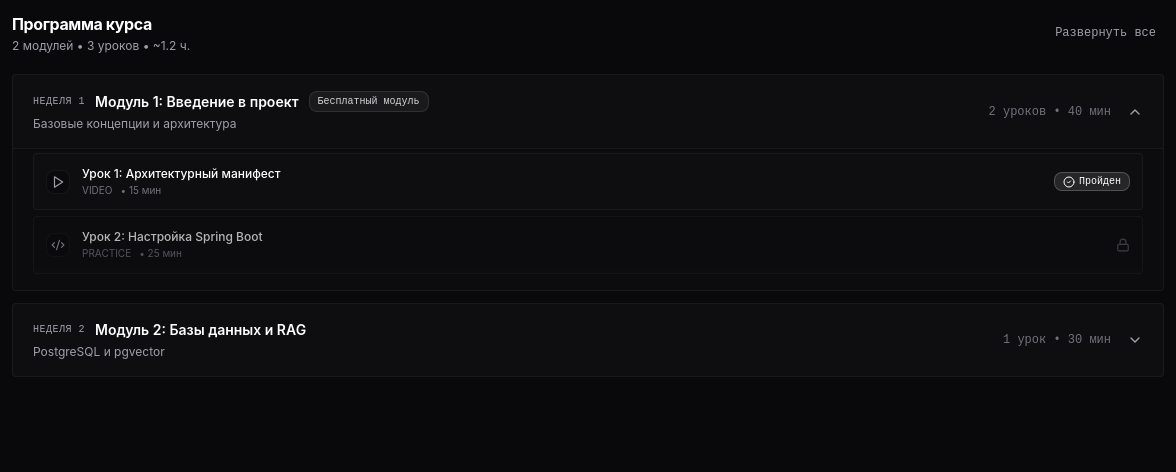
Test: CourseCurriculumAccordion Component › renders modules list, toggles accordion and displays lesson details
Check: the heading "Программа курса" is shown, box x1=12 y1=14 x2=152 y2=34
Check: the text "2 модулей • 3 уроков • ~1.2 ч." is shown, box x1=12 y1=38 x2=190 y2=54
Module 2 is collapsed by default, expand it
Click the heading "Модуль 2: Базы данных и RAG": (201, 330) x1=95 y1=320 x2=306 y2=340
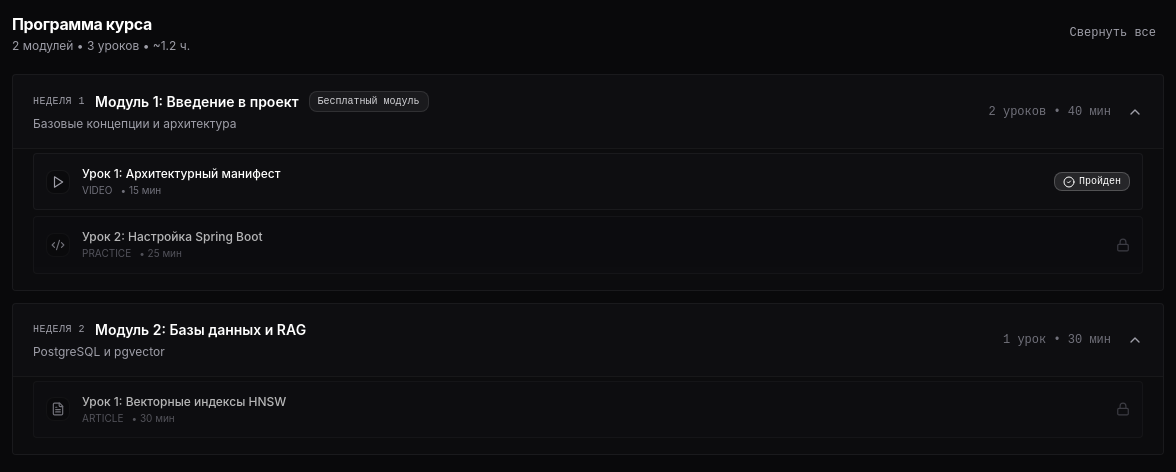
Check: the text "Урок 1: Векторные индексы HNSW" is shown, box x1=82 y1=394 x2=286 y2=410
